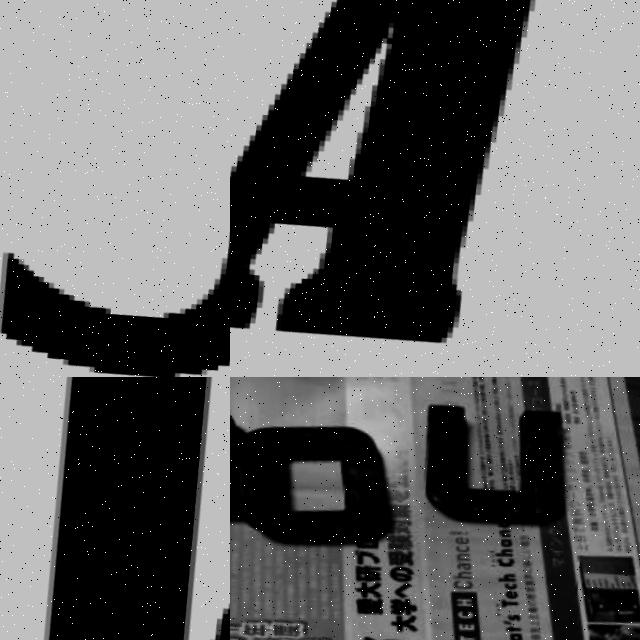A: (230, 0, 603, 377)
J: (0, 0, 230, 377)
L: (0, 377, 230, 640)
O: (230, 415, 392, 555)
U: (385, 381, 577, 549)
